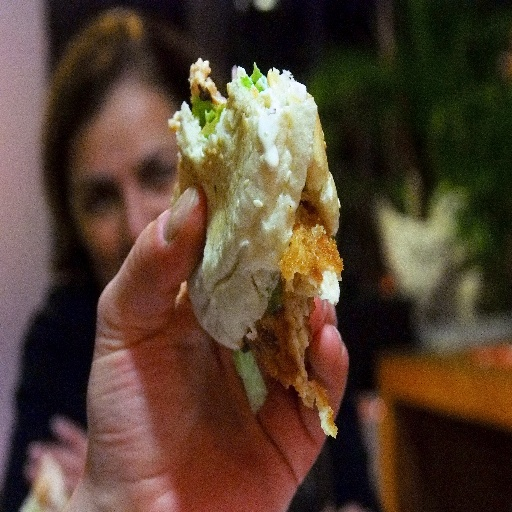hand: (86, 186, 348, 511), (23, 416, 88, 497)
